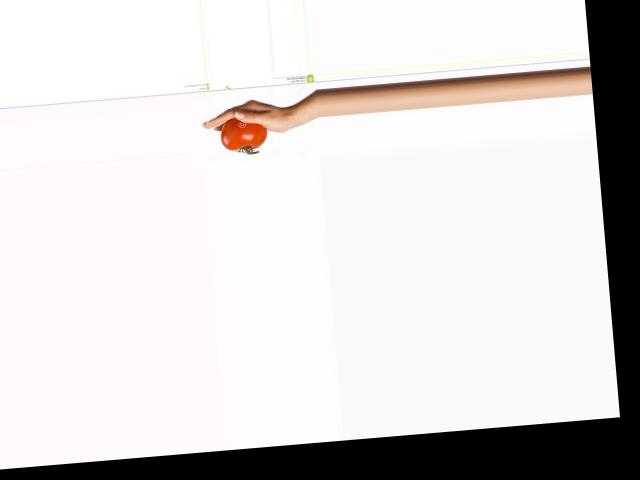tomato: (219, 115, 268, 151)
